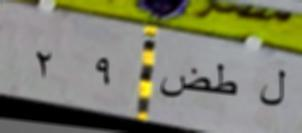2: (32, 46, 54, 80)
9: (93, 55, 116, 90)
Taa: (212, 60, 238, 104)
daad: (158, 63, 211, 102)
laam: (259, 66, 287, 114)
